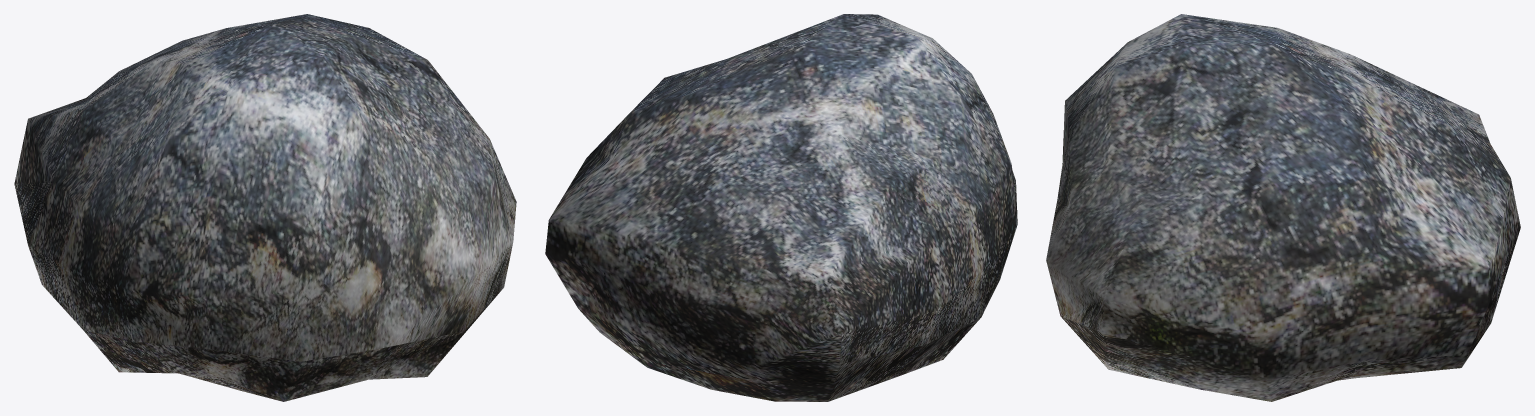
File: Rock_01.FBX
The picture shows the model from 3 angles, left to right: view 1: azimuth 30°, elevation 25°; view 2: azimuth 150°, elevation 25°; view 3: azimuth 270°, elevation 25°; orthographic projection. The views are drawn at different scales.
Visible parts, largest first — view 1: Rock_00; view 2: Rock_00; view 3: Rock_00.
Boxes of the visible parts, bbox=[...] form: Rock_00: bbox=[14, 14, 516, 401]; Rock_00: bbox=[545, 14, 1017, 401]; Rock_00: bbox=[1046, 14, 1520, 401].
Bounding box in the file's own units: 77.2 × 58.04 × 80.34.
